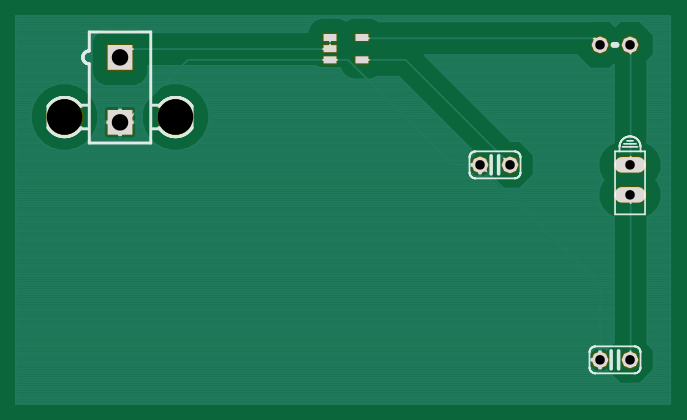LED: (614, 135, 646, 215)
capacitance: (588, 345, 640, 375), (468, 150, 521, 179)
power_supply: (45, 30, 195, 144)
regulation: (322, 33, 370, 64)
resistance: (592, 36, 638, 54)
